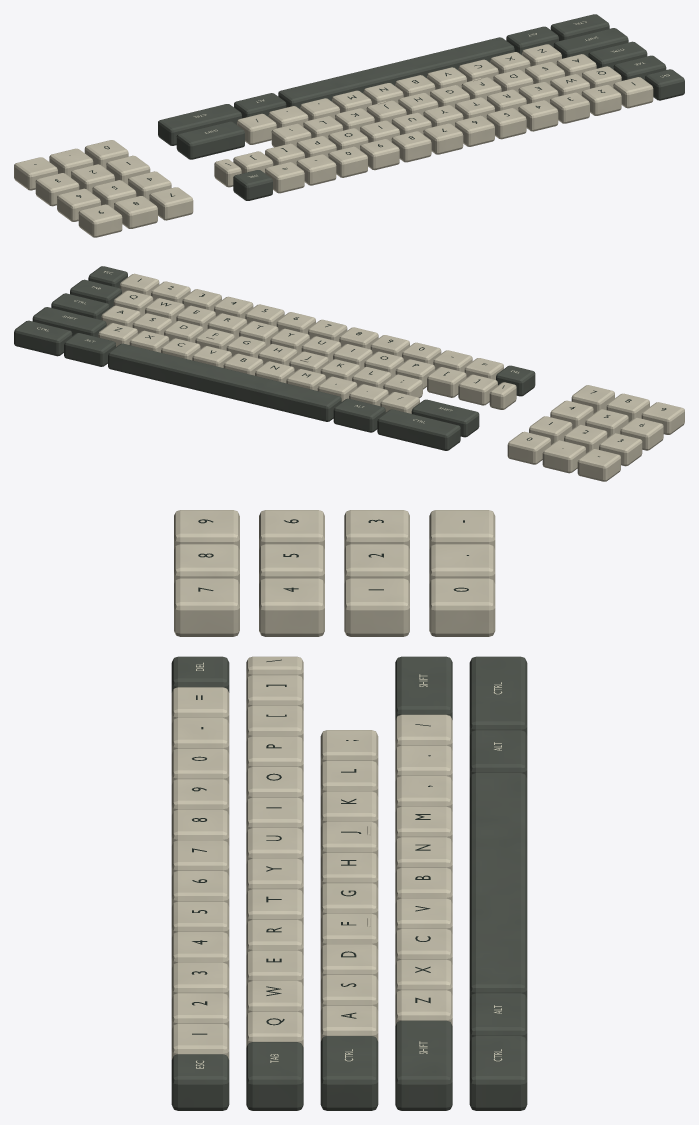
The model's file is TERMINAL_Keys.fbx.
3 renders of one model, top to bottom at view 1: azimuth 30°, elevation 25°; view 2: azimuth 150°, elevation 25°; view 3: azimuth 270°, elevation 25°, orthographic. The views are drawn at different scales.
Visible parts, largest first — view 1: TERMINAL_Keys; view 2: TERMINAL_Keys; view 3: TERMINAL_Keys.
Part boxes in pixels (<box>): TERMINAL_Keys: <box>14,14,684,237</box>; TERMINAL_Keys: <box>14,266,684,481</box>; TERMINAL_Keys: <box>171,510,527,1110</box>.
Bounding box in the file's own units: 0.635 × 0.0195 × 0.167.
3 materials, 1 textured.
